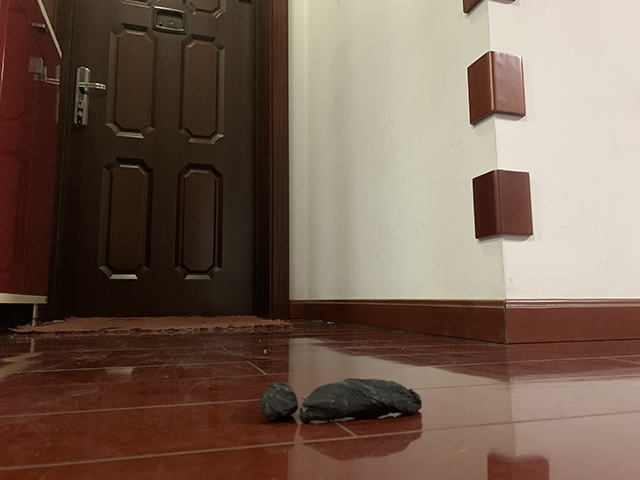cabinet: (1, 1, 63, 324)
carpet: (5, 314, 295, 335)
feces: (258, 378, 422, 424)
